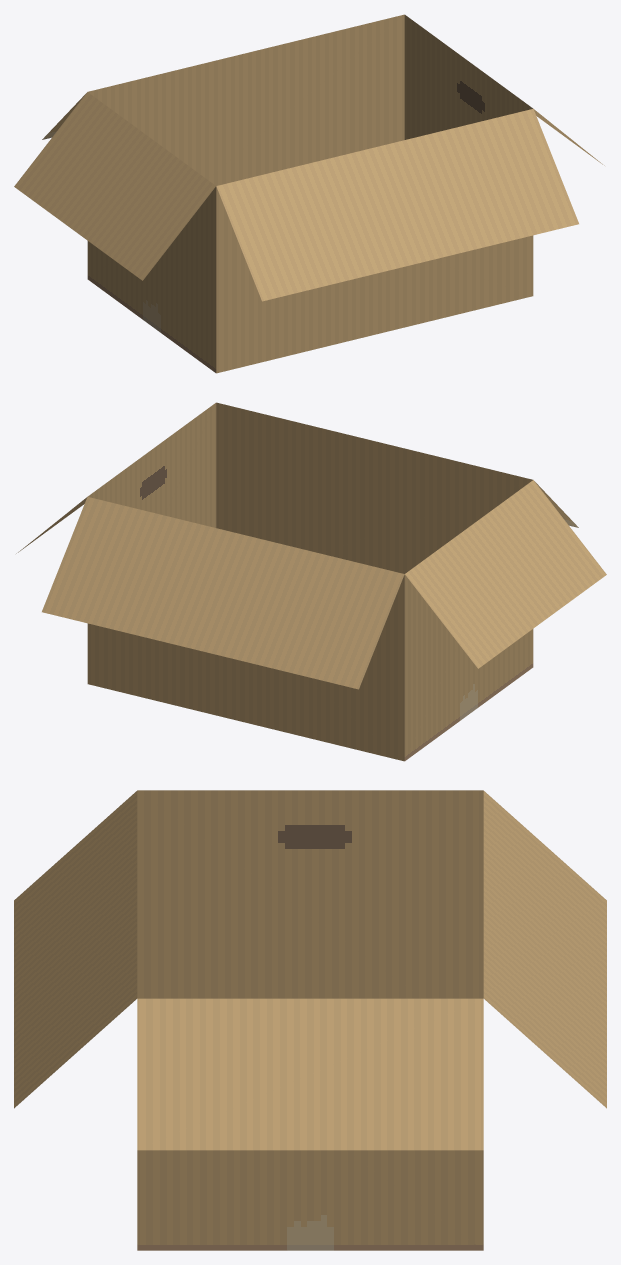
Rendered from 03fd_Open_Box.glb.
3 views of the same model, one above another, from view 1: azimuth 30°, elevation 25°; view 2: azimuth 150°, elevation 25°; view 3: azimuth 270°, elevation 25° (orthographic). The views are drawn at different scales.
Parts seen in each view (by area): view 1: part_0; view 2: part_0; view 3: part_0.
Boxes of the visible parts, bbox=[...] form: part_0: bbox=[14, 14, 604, 373]; part_0: bbox=[16, 402, 606, 761]; part_0: bbox=[14, 790, 606, 1250].
Size of the model in its own units: 1.34 by 0.5173 by 1.1.
1 material, 1 textured.
